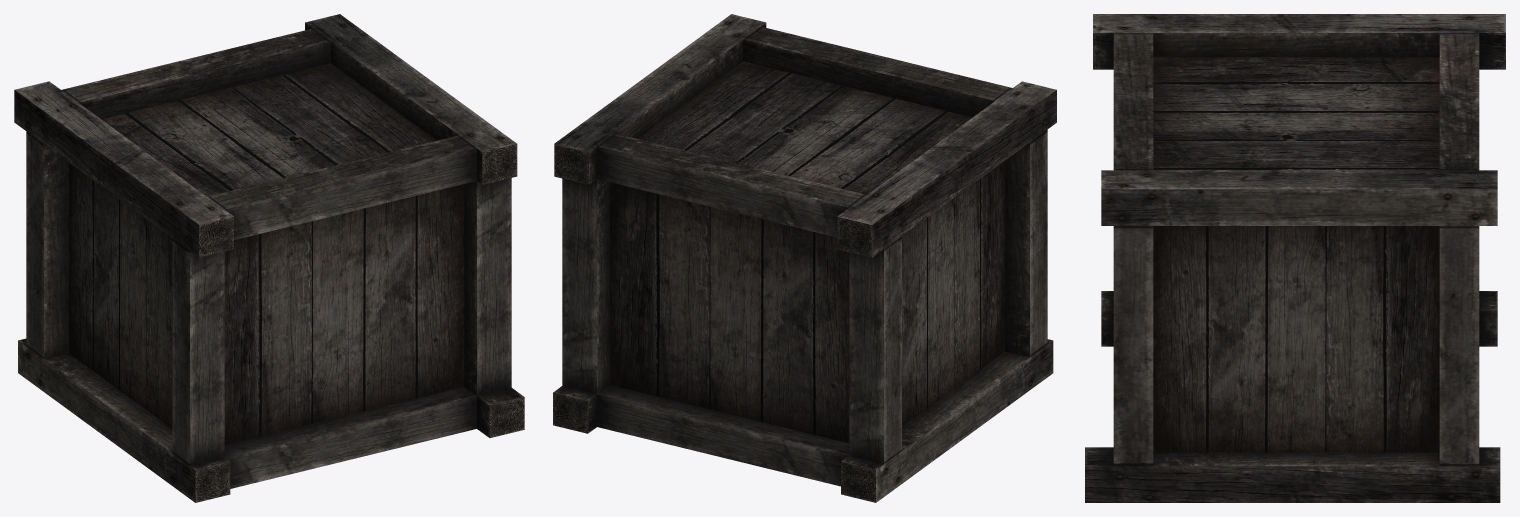
File: wood_box_small01.dae
3 views of the same model, side by side, from view 1: azimuth 30°, elevation 25°; view 2: azimuth 150°, elevation 25°; view 3: azimuth 270°, elevation 25° (orthographic). The views are drawn at different scales.
Parts seen in each view (by area): view 1: pCube1; view 2: pCube1; view 3: pCube1.
Boxes of the visible parts, bbox=[...] form: pCube1: bbox=[14, 14, 524, 502]; pCube1: bbox=[553, 14, 1056, 502]; pCube1: bbox=[1085, 14, 1505, 502].
Size of the model in its own units: 0.6 by 0.5 by 0.6084.
